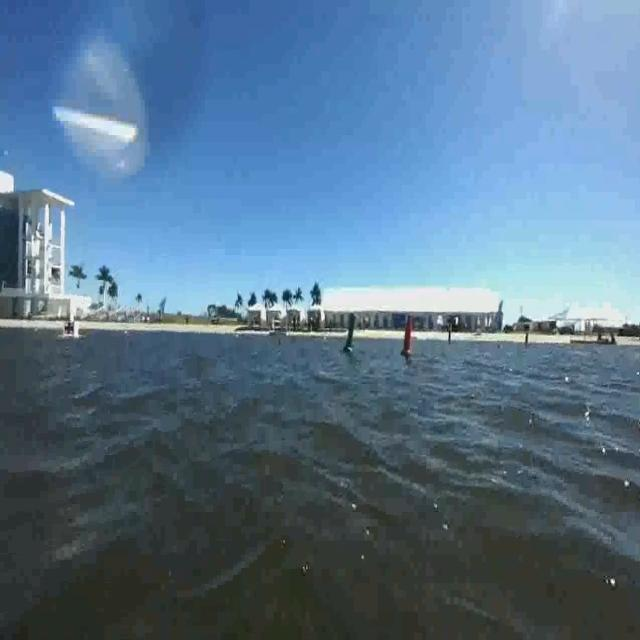green-column-buoy: (343, 312, 359, 354)
red-column-buoy: (401, 307, 414, 363)
